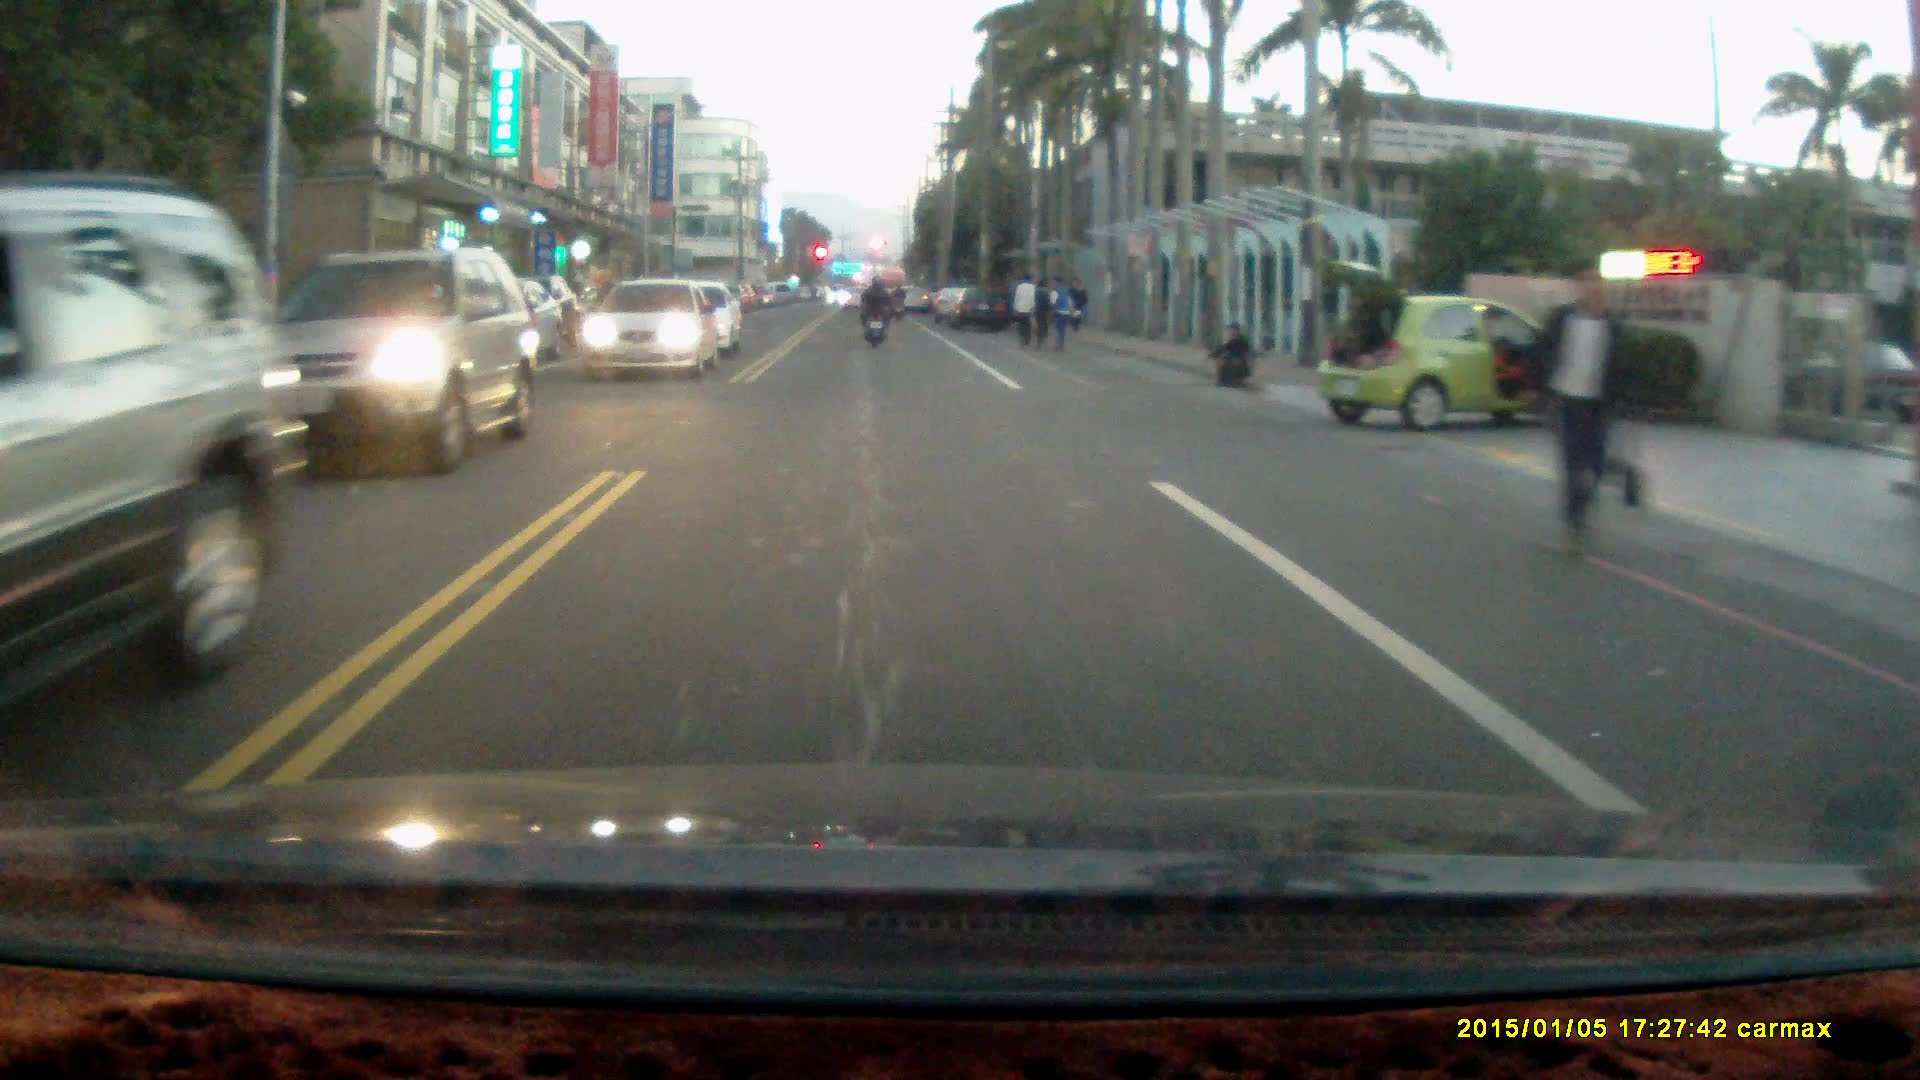pedestrian: (1524, 260, 1639, 565), (1209, 323, 1255, 393), (1043, 275, 1076, 352), (1011, 277, 1037, 358), (1030, 281, 1056, 355)
rider: (855, 272, 891, 348)
vehicle: (1, 179, 307, 794), (212, 249, 541, 480), (1316, 263, 1584, 436), (578, 282, 716, 385), (948, 282, 1010, 334)
